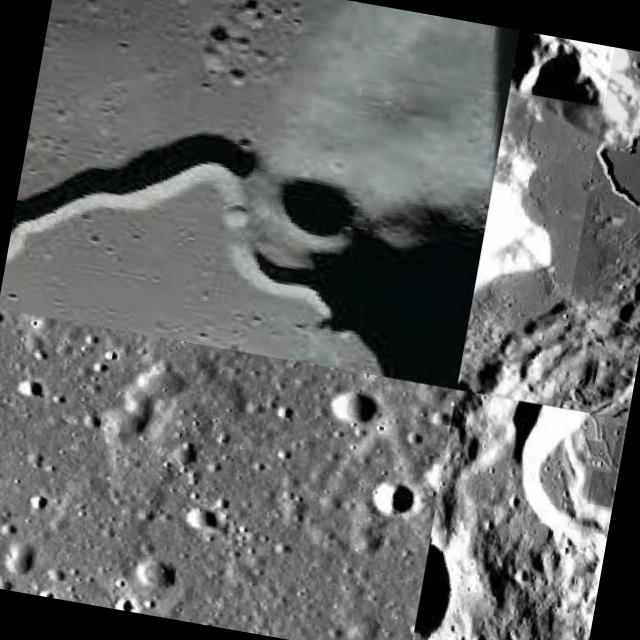rille: (0, 96, 492, 387), (552, 47, 640, 412), (586, 422, 624, 507), (572, 418, 618, 472), (584, 414, 604, 442)
